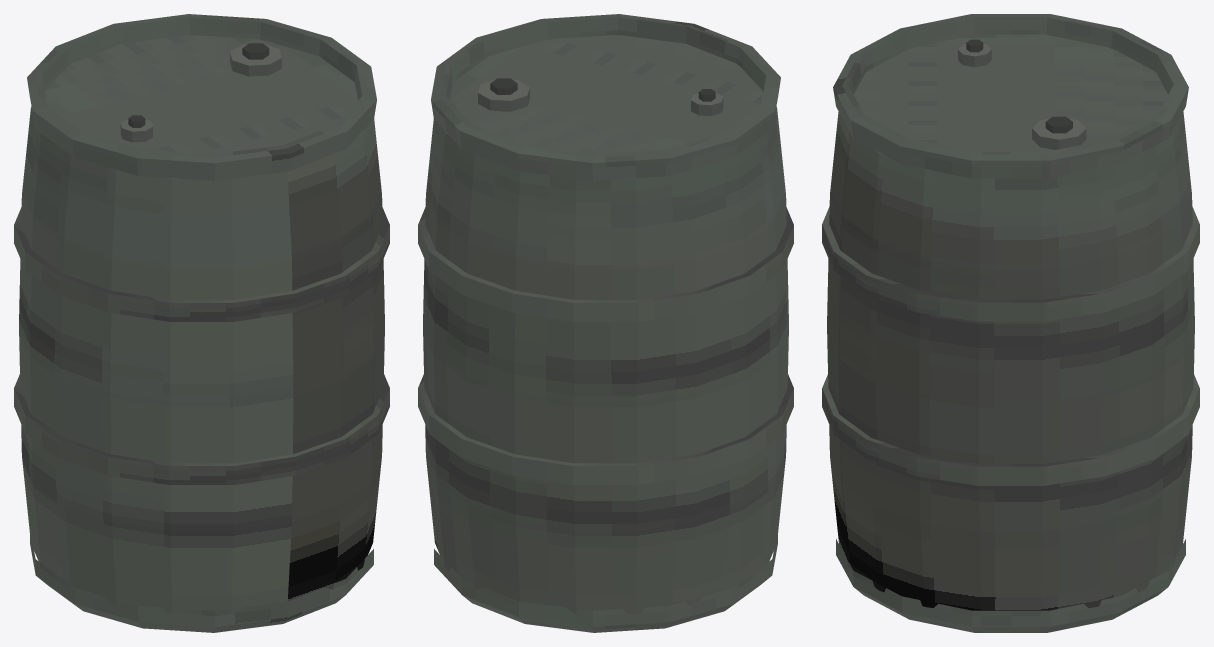
File: Building_AncientBarrel.glb
The picture shows the model from 3 angles, left to right: view 1: azimuth 30°, elevation 25°; view 2: azimuth 150°, elevation 25°; view 3: azimuth 270°, elevation 25°; orthographic projection.
Parts seen in each view (by area): view 1: AncientBarrel; view 2: AncientBarrel; view 3: AncientBarrel.
Boxes of the visible parts, x1,y1,x2,y2 form: AncientBarrel: [14, 14, 389, 632]; AncientBarrel: [418, 14, 793, 632]; AncientBarrel: [822, 14, 1199, 632].
Bounding box in the file's own units: 0.6165 × 0.882 × 0.626.
Materials: 1 (1 with a texture image).
